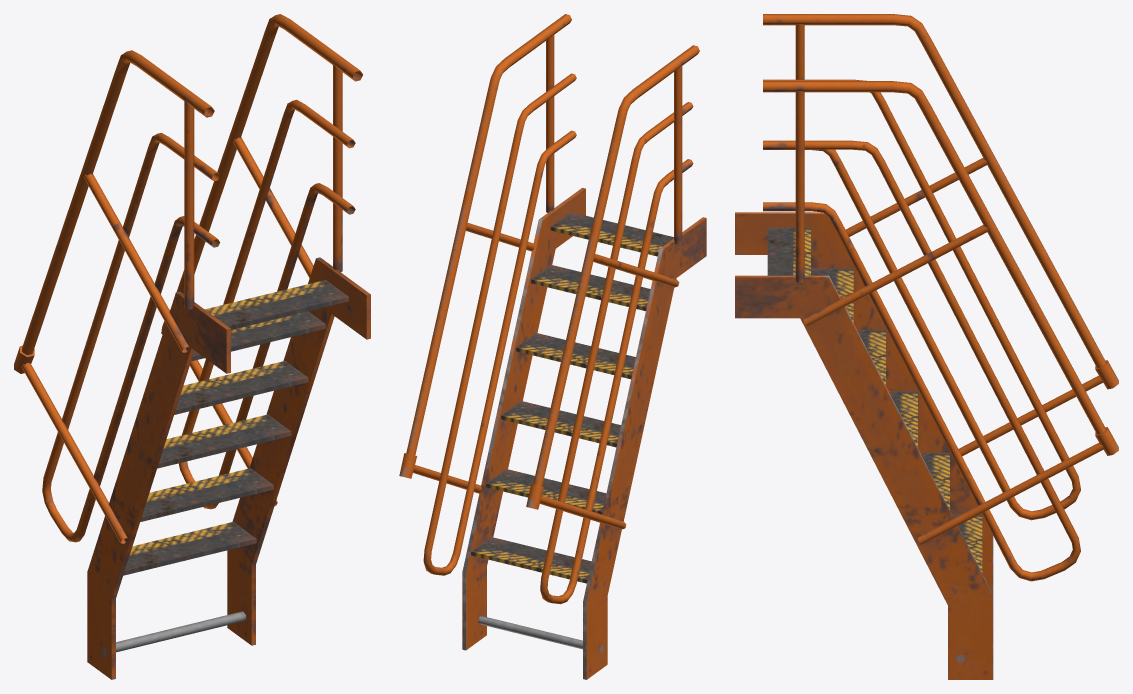
The model's file is SpecificLadder_01.fbx.
The picture shows the model from 3 angles, left to right: view 1: azimuth 30°, elevation 25°; view 2: azimuth 150°, elevation 25°; view 3: azimuth 270°, elevation 25°; orthographic projection. The views are drawn at different scales.
Parts seen in each view (by area): view 1: Specific_Ladder_01_LOD0; view 2: Specific_Ladder_01_LOD0; view 3: Specific_Ladder_01_LOD0.
Boxes of the visible parts, x1=… form: Specific_Ladder_01_LOD0: x1=14, y1=14, x2=370, y2=679; Specific_Ladder_01_LOD0: x1=399, y1=14, x2=706, y2=679; Specific_Ladder_01_LOD0: x1=735, y1=14, x2=1118, y2=679.
Size of what is drawn, in the model's own units: 0.7686 by 2.92 by 1.7.
